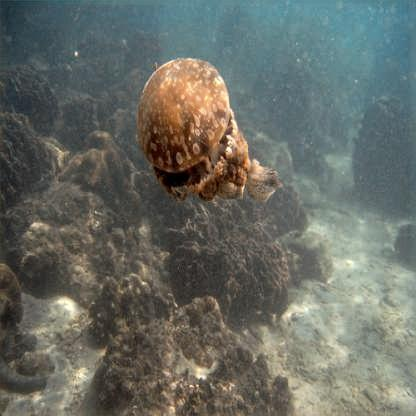LightHouse: (141, 60, 279, 209)
